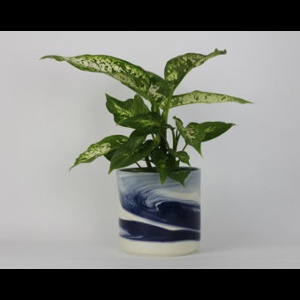flowerpot: (111, 163, 207, 257)
